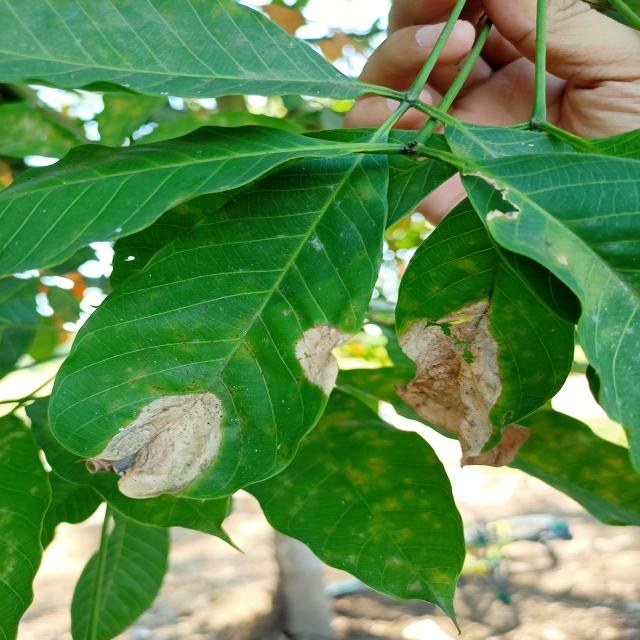Leaf-Blight: (396, 300, 492, 454), (86, 392, 223, 499), (297, 324, 356, 396), (460, 423, 532, 467)
